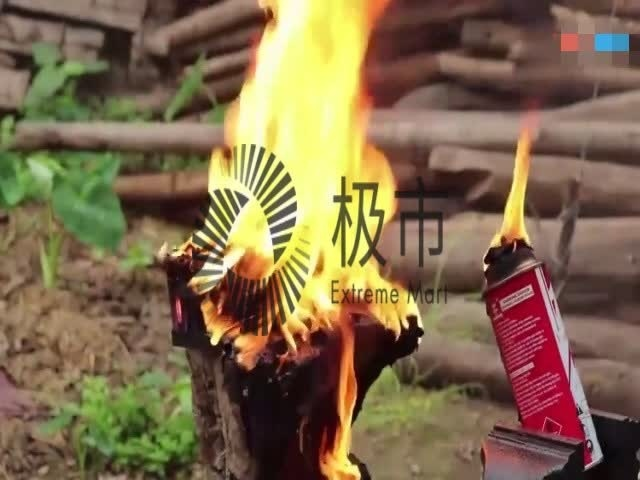fire: (194, 0, 414, 364), (490, 119, 537, 259)
